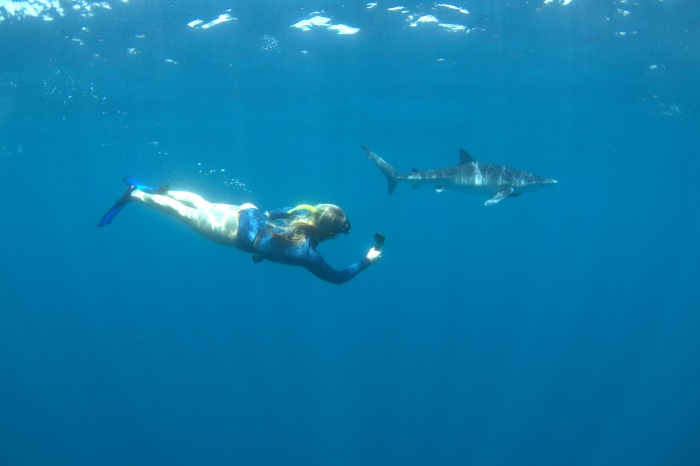Azul: (356, 141, 584, 220)
